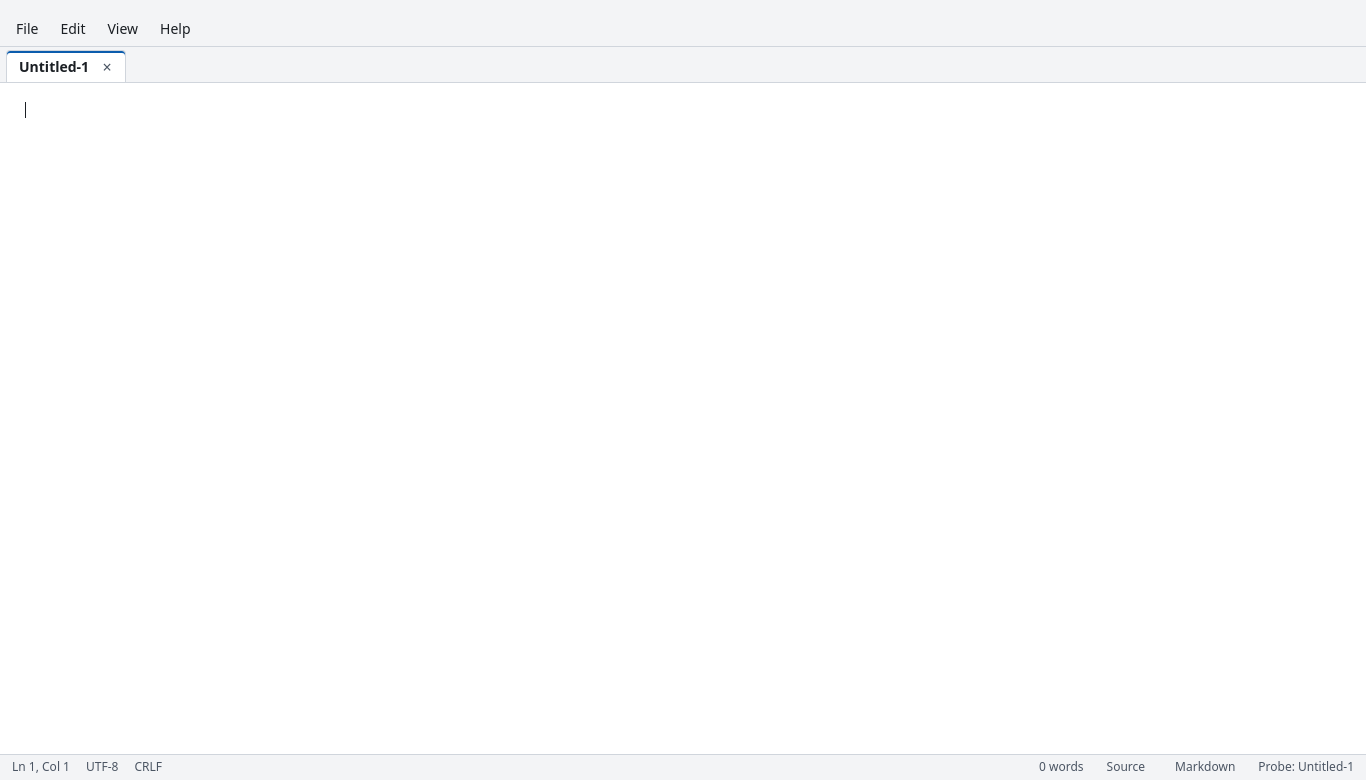
Test: a feature contributed from one file › contributes a menu item and a status item
Expected: the tab "Untitled-1" is shown, [7,51,93,82]
Expected: the text "Probe: Untitled-1" is shown, [1258,758,1354,775]
What coordinates should you click on to do the following:
click the menu item "Help"
I would click on:
 (175, 29)
Its box is [150,15,201,43].
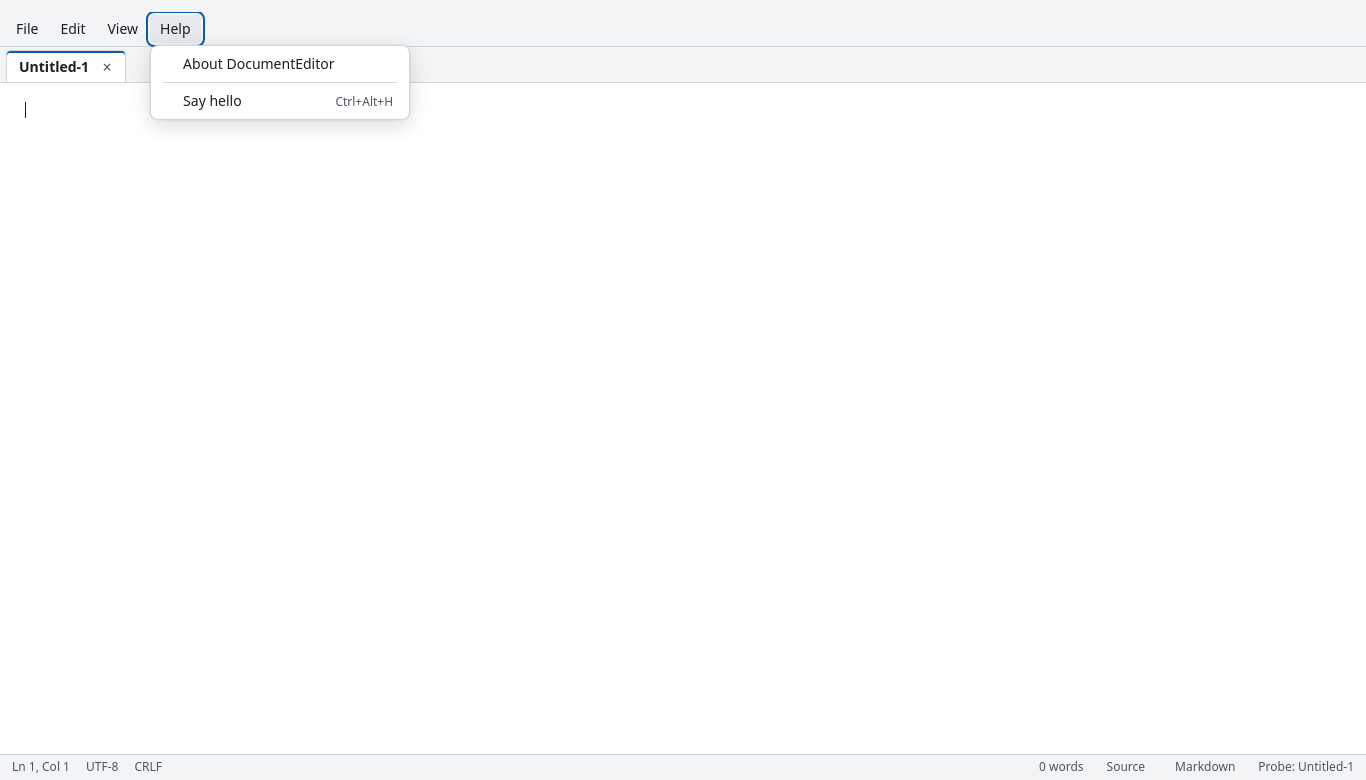
What coordinates should you click on to do the following:
click the menu item "Say hello Ctrl+Alt+H"
I would click on:
 (280, 101)
Its box is [155,87,405,115].
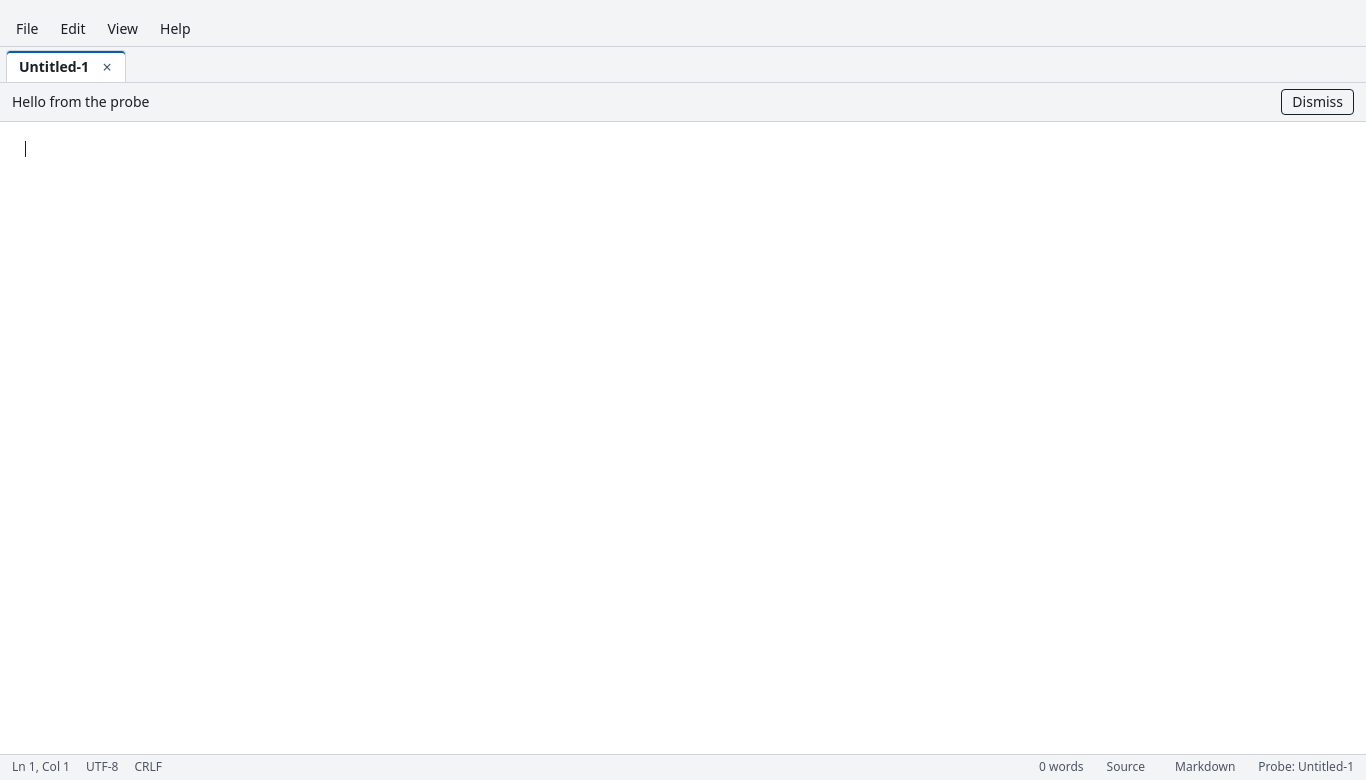
Result: the text "Hello from the probe" is shown at [12,92,150,112]
